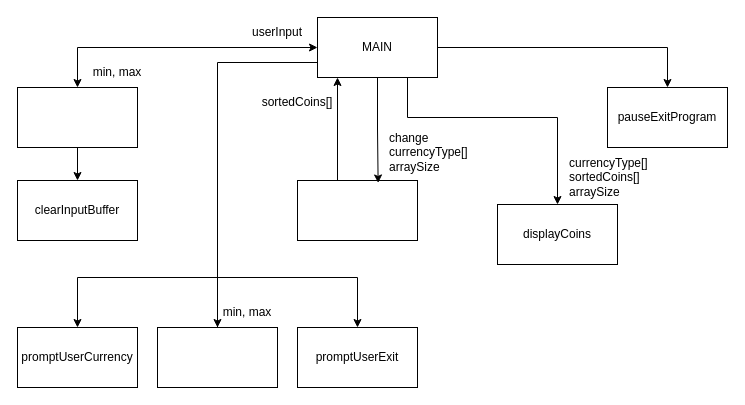
Some shapes in this 745 by 405 pixel diagram are drawn without their labels. Here are the shapes that lost their labels. From the top down, the centre of each, then its label:
At point (77, 117): "getUserInput".
At point (357, 210): "calculateCoins".
At point (217, 357): "promptUserChange".
